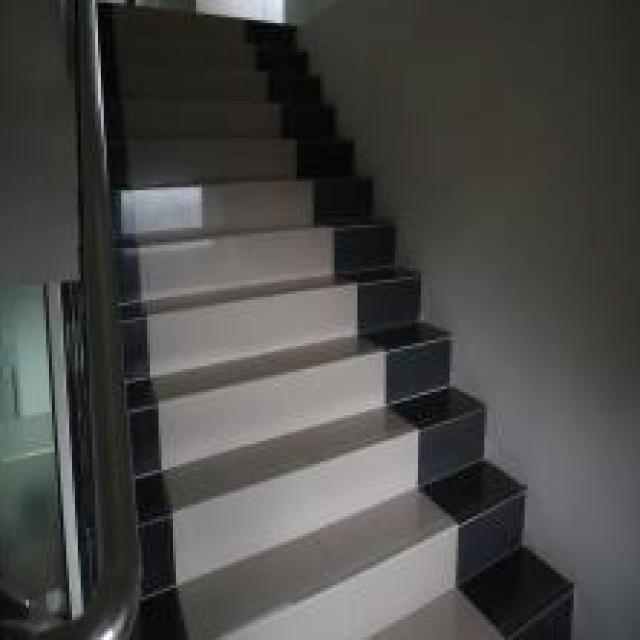upstair: (116, 91, 396, 454)
